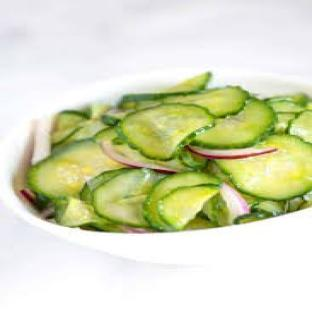Cucumber: (217, 134, 311, 200), (28, 140, 122, 198), (118, 105, 213, 159), (144, 173, 219, 231), (191, 99, 276, 148), (94, 128, 190, 171), (93, 170, 158, 226), (157, 184, 219, 230), (162, 87, 248, 116), (81, 168, 131, 201), (55, 198, 107, 226), (52, 121, 107, 146), (120, 91, 199, 108), (164, 73, 211, 93), (203, 195, 231, 226), (266, 94, 308, 113), (289, 111, 311, 142), (52, 125, 83, 146), (55, 111, 88, 130), (180, 149, 207, 170), (268, 101, 305, 113), (234, 213, 271, 224), (185, 217, 216, 230), (275, 113, 296, 132), (258, 201, 284, 215), (87, 104, 110, 119), (94, 128, 117, 142), (285, 198, 305, 212), (101, 115, 119, 125), (306, 101, 311, 110)
